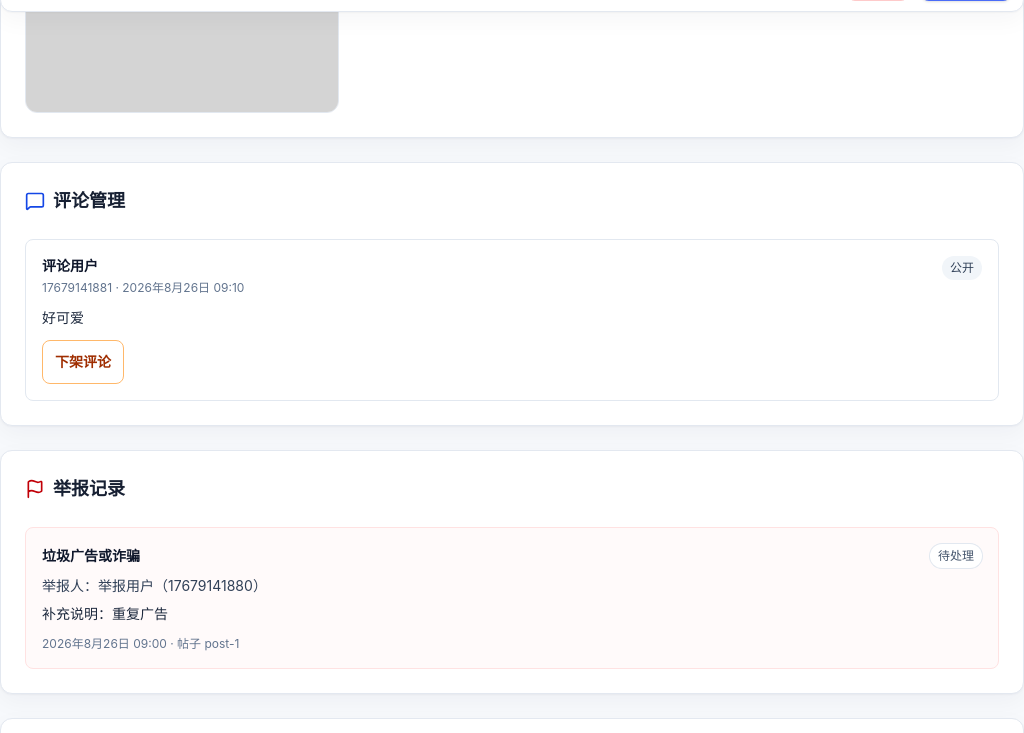
Test: ContentPostDetail › requires a reason before taking a visible comment offline
(page scrolled)
Click the button "下架评论".
click(83, 362)  # box [42,340,124,384]
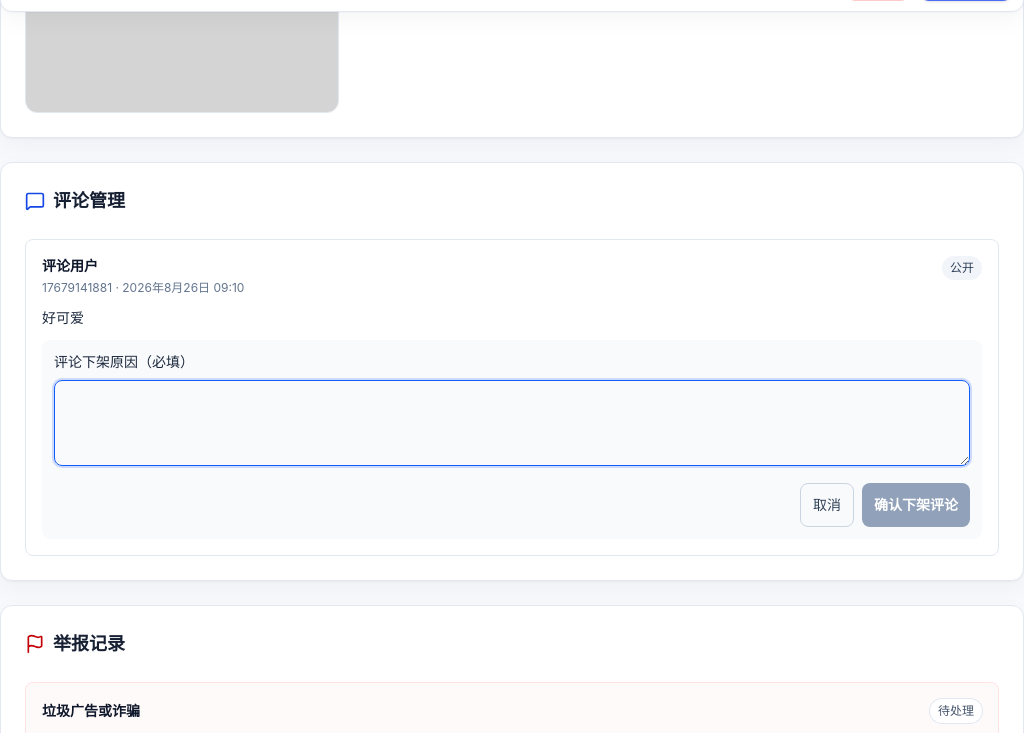
expect the button "确认下架评论" is disabled: met, box [862,483,970,527]
Type "违反社区规范" into the text box labelled "评论下架原因（必填）".
click(512, 423); type("违反社区规范")  # box [54,380,970,466]
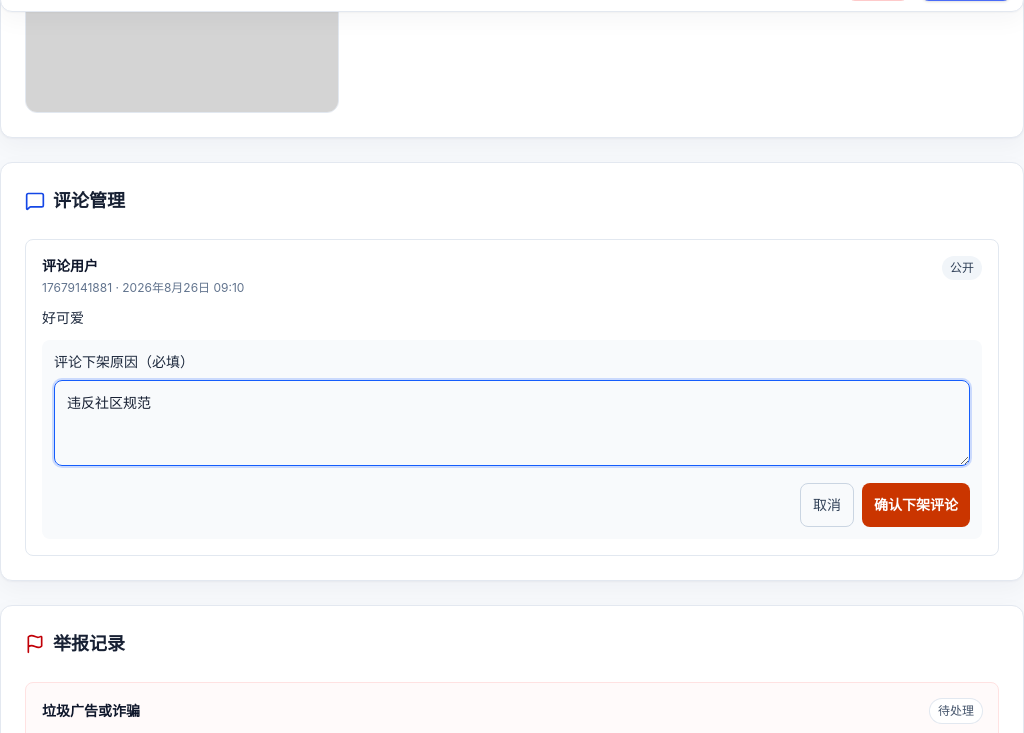
Click the button "确认下架评论".
click(916, 505)  # box [862,483,970,527]
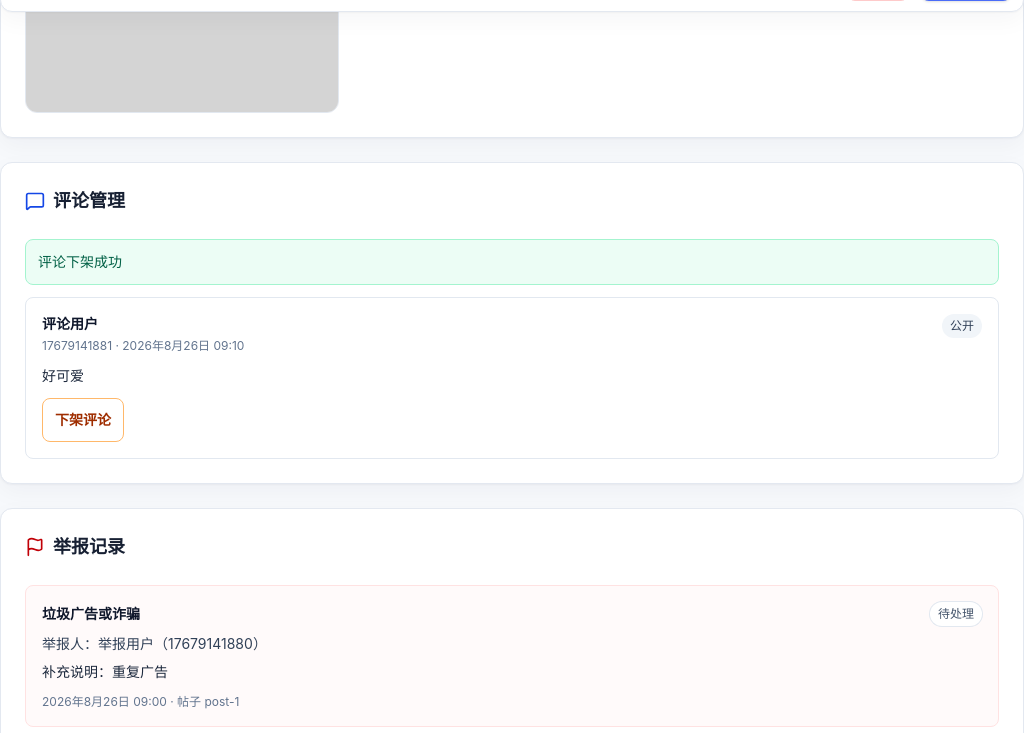
expect the message reads "评论下架成功": met, box [38,253,122,270]
